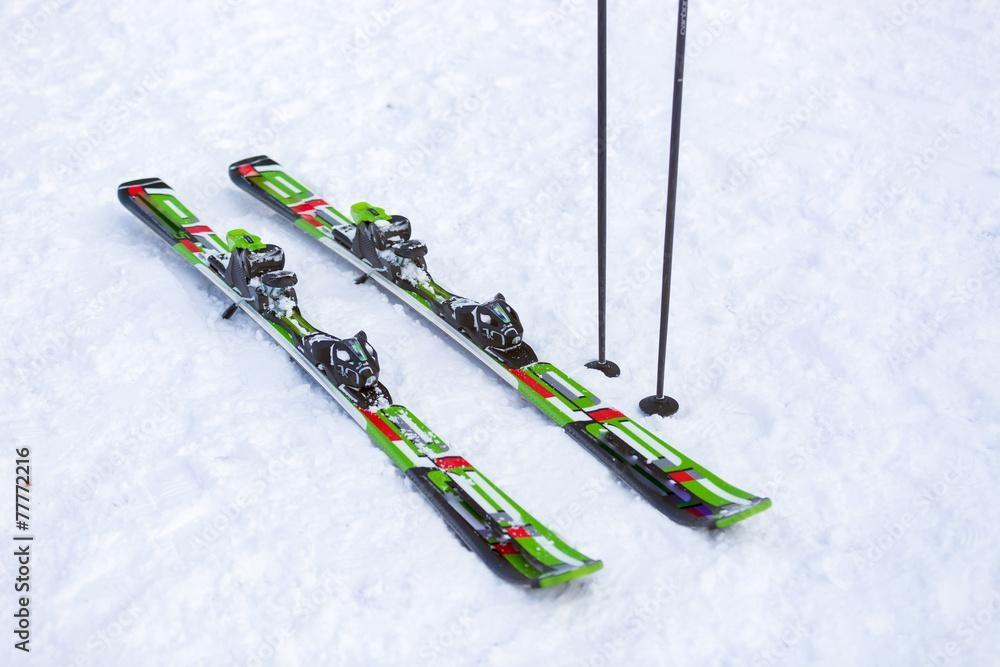Skis: (118, 116, 754, 594)
